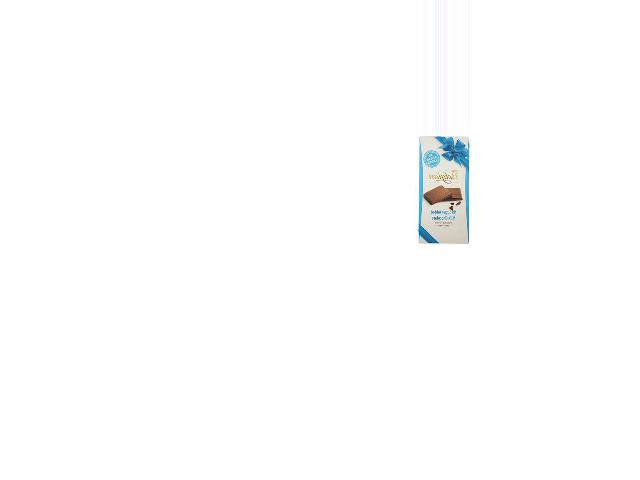chocolate: (414, 135, 476, 246)
